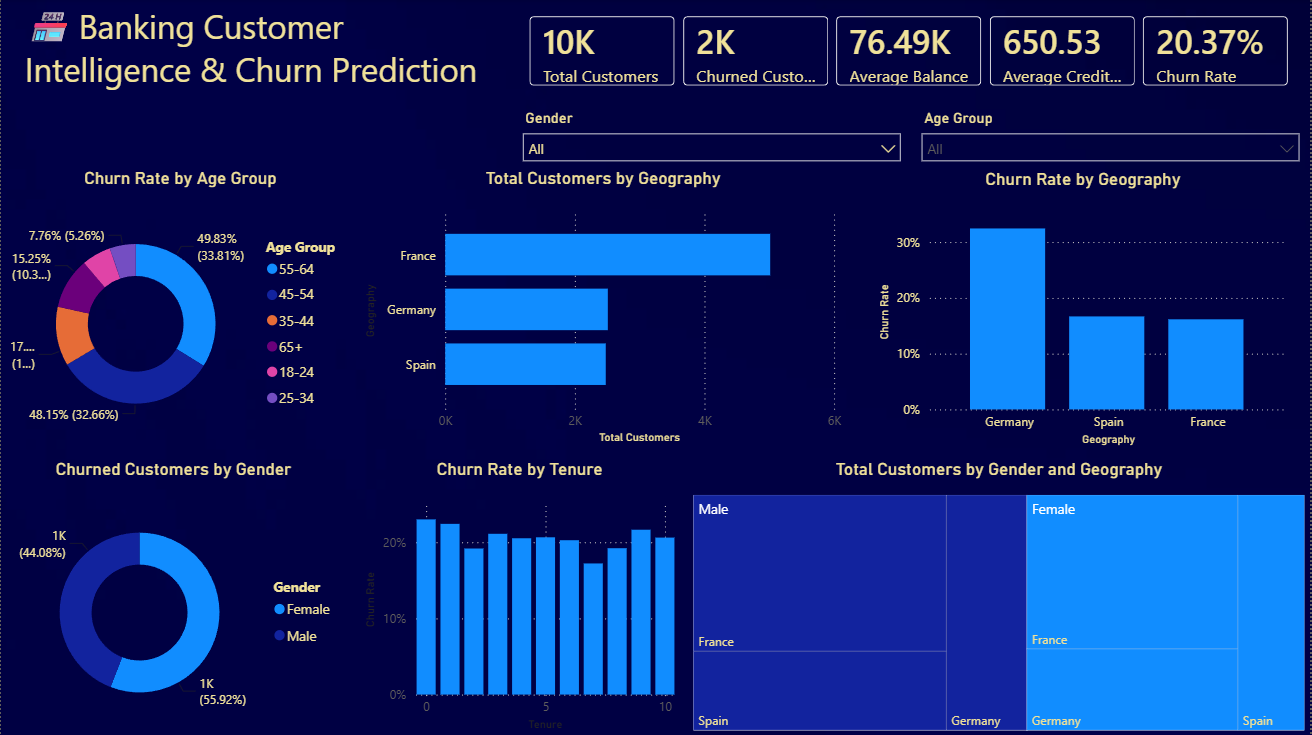

Layout of this report page (visuals, bound fields, positions):
{"tool":"powerbi","page":{"name":"DashBoard","canvas":[1280,720],"ordinal":4},"visuals":[{"type":"cardVisual","fields":{"Data":["Churn_Modelling.Total Customers","Churn_Modelling.Churned Customers","Churn_Modelling.Average Balance","Churn_Modelling.Average Credit Score","Churn_Modelling.Churn Rate"]},"box":[500.1,0,780.2,102.7],"z":0},{"type":"donutChart","fields":{"Category":["Churn_Modelling.Age Group"],"Y":["Churn_Modelling.Churn Rate"]},"box":[0,165.1,351,275.1],"z":1000},{"type":"donutChart","fields":{"Category":["Churn_Modelling.Gender"],"Y":["Churn_Modelling.Churned Customers"]},"box":[0,450,337.5,270.2],"z":2000},{"type":"lineClusteredColumnComboChart","fields":{"Category":["Churn_Modelling.Geography"],"Y":["Churn_Modelling.Churn Rate"]},"box":[853.8,166.2,410,275],"z":3000},{"type":"columnChart","fields":{"Category":["Churn_Modelling.Tenure"],"Y":["Churn_Modelling.Churn Rate"]},"box":[351,450,313,270.2],"z":4000},{"type":"clusteredBarChart","fields":{"Category":["Churn_Modelling.Geography"],"Y":["Churn_Modelling.Total Customers"]},"box":[351.2,165,476.2,275],"z":5000},{"type":"treemap","fields":{"Details":["Churn_Modelling.Geography"],"Group":["Churn_Modelling.Gender"],"Values":["Churn_Modelling.Total Customers"]},"box":[672.6,450,607.7,270.2],"z":6000},{"type":"slicer","fields":{"Values":["Churn_Modelling.Age Group"]},"box":[890.2,102.7,390.1,62.4],"z":8000},{"type":"slicer","fields":{"Values":["Churn_Modelling.Gender"]},"box":[500.1,102.7,390.1,63.6],"z":9000},{"type":"textbox","box":[18.3,0,470.8,165.1],"z":10000}]}

Visuals, with their boxes in screenshot pixels (x1, y1, x2, y2), scaled from the page's 1280x720 canvas onto the 1312x735 screenshot:
cardVisual - Churn_Modelling.Total Customers x Churn_Modelling.Churned Customers: 513 0 1311 105
donutChart - Churn_Modelling.Age Group x Churn_Modelling.Churn Rate: 0 169 360 449
donutChart - Churn_Modelling.Gender x Churn_Modelling.Churned Customers: 0 459 346 734
lineClusteredColumnComboChart - Churn_Modelling.Geography x Churn_Modelling.Churn Rate: 875 170 1295 450
columnChart - Churn_Modelling.Tenure x Churn_Modelling.Churn Rate: 360 459 681 734
clusteredBarChart - Churn_Modelling.Geography x Churn_Modelling.Total Customers: 360 168 848 449
treemap - Churn_Modelling.Geography x Churn_Modelling.Gender: 689 459 1311 734
slicer - Churn_Modelling.Age Group: 912 105 1311 169
slicer - Churn_Modelling.Gender: 513 105 912 170
textbox: 19 0 501 169
